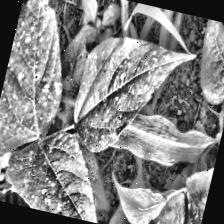Bean Rust: (66, 18, 197, 172), (1, 118, 134, 224), (0, 0, 84, 151), (103, 156, 178, 224)
